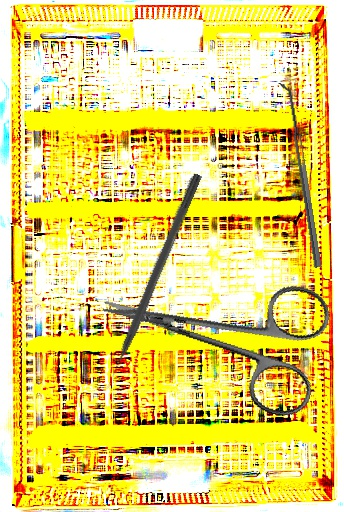Iris Scissors: (86, 238, 337, 422)
Pusher: (99, 171, 204, 392)
Spatula Surgical: (278, 81, 322, 269)
